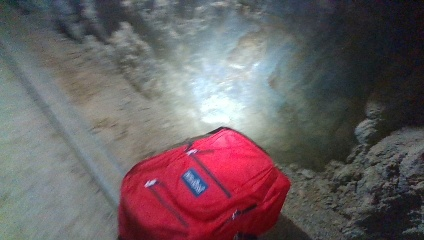backpack: (114, 125, 291, 239)
